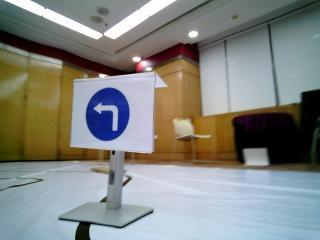left: (74, 80, 145, 148)
